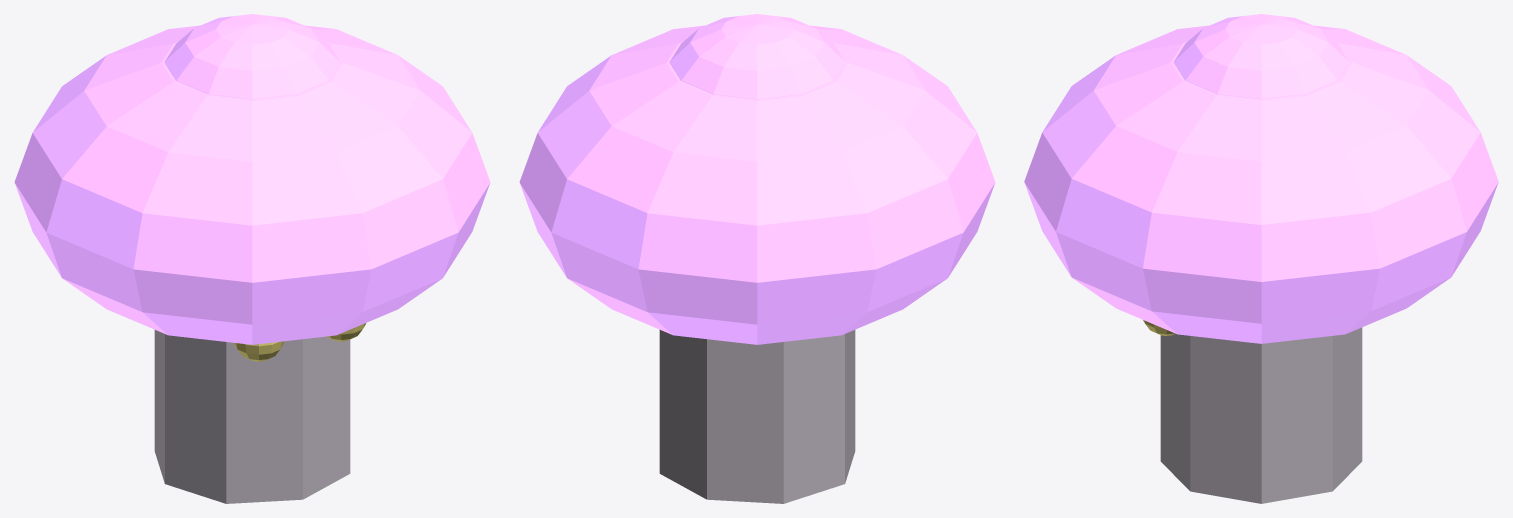
File: creature_mushroom_purple.glb
3 views of the same model, side by side, from view 1: azimuth 30°, elevation 25°; view 2: azimuth 150°, elevation 25°; view 3: azimuth 270°, elevation 25° (orthographic).
Parts seen in each view (by area): view 1: creature_mushroom_purple; view 2: creature_mushroom_purple; view 3: creature_mushroom_purple.
Part boxes in pixels (x1,y1,x2,y2): creature_mushroom_purple: [14, 14, 490, 503]; creature_mushroom_purple: [519, 14, 995, 503]; creature_mushroom_purple: [1024, 14, 1498, 503].
Bounding box in the file's own units: 0.9852 × 1 × 0.9852.
